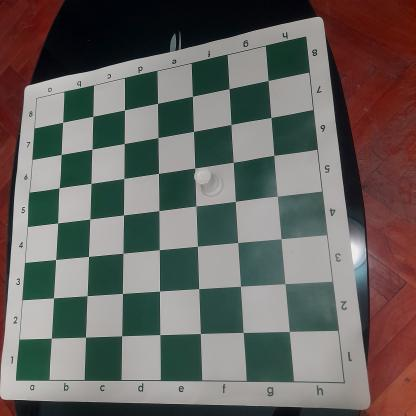white-rook: (192, 168, 227, 198)
